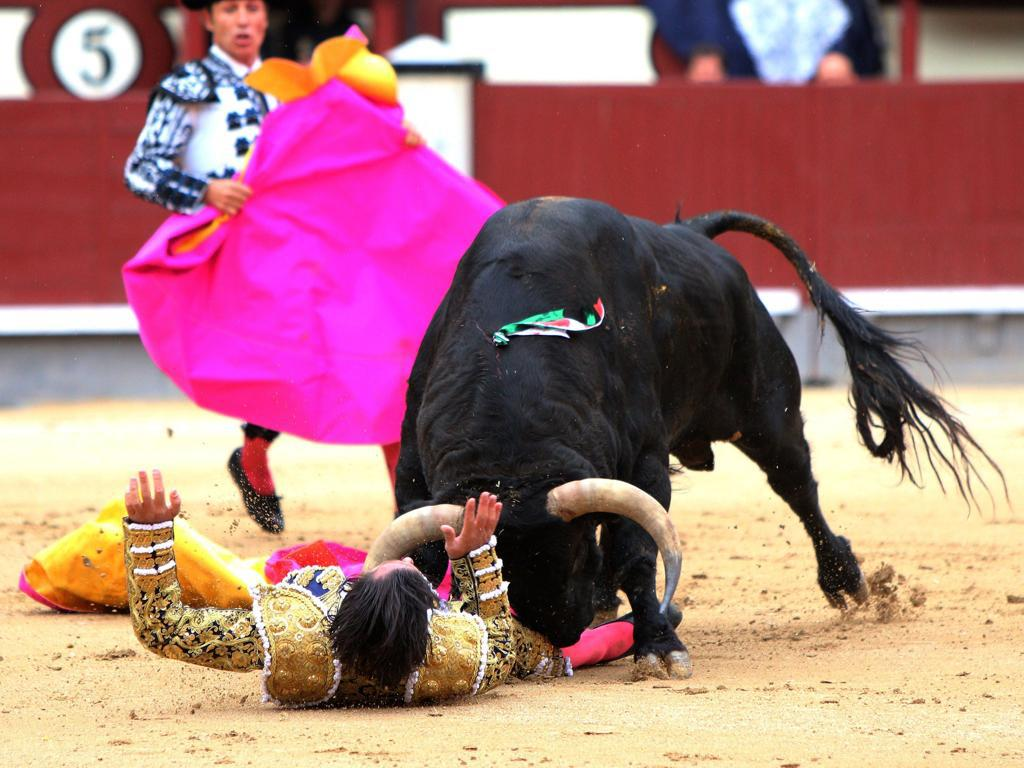face: (215, 9, 275, 59)
